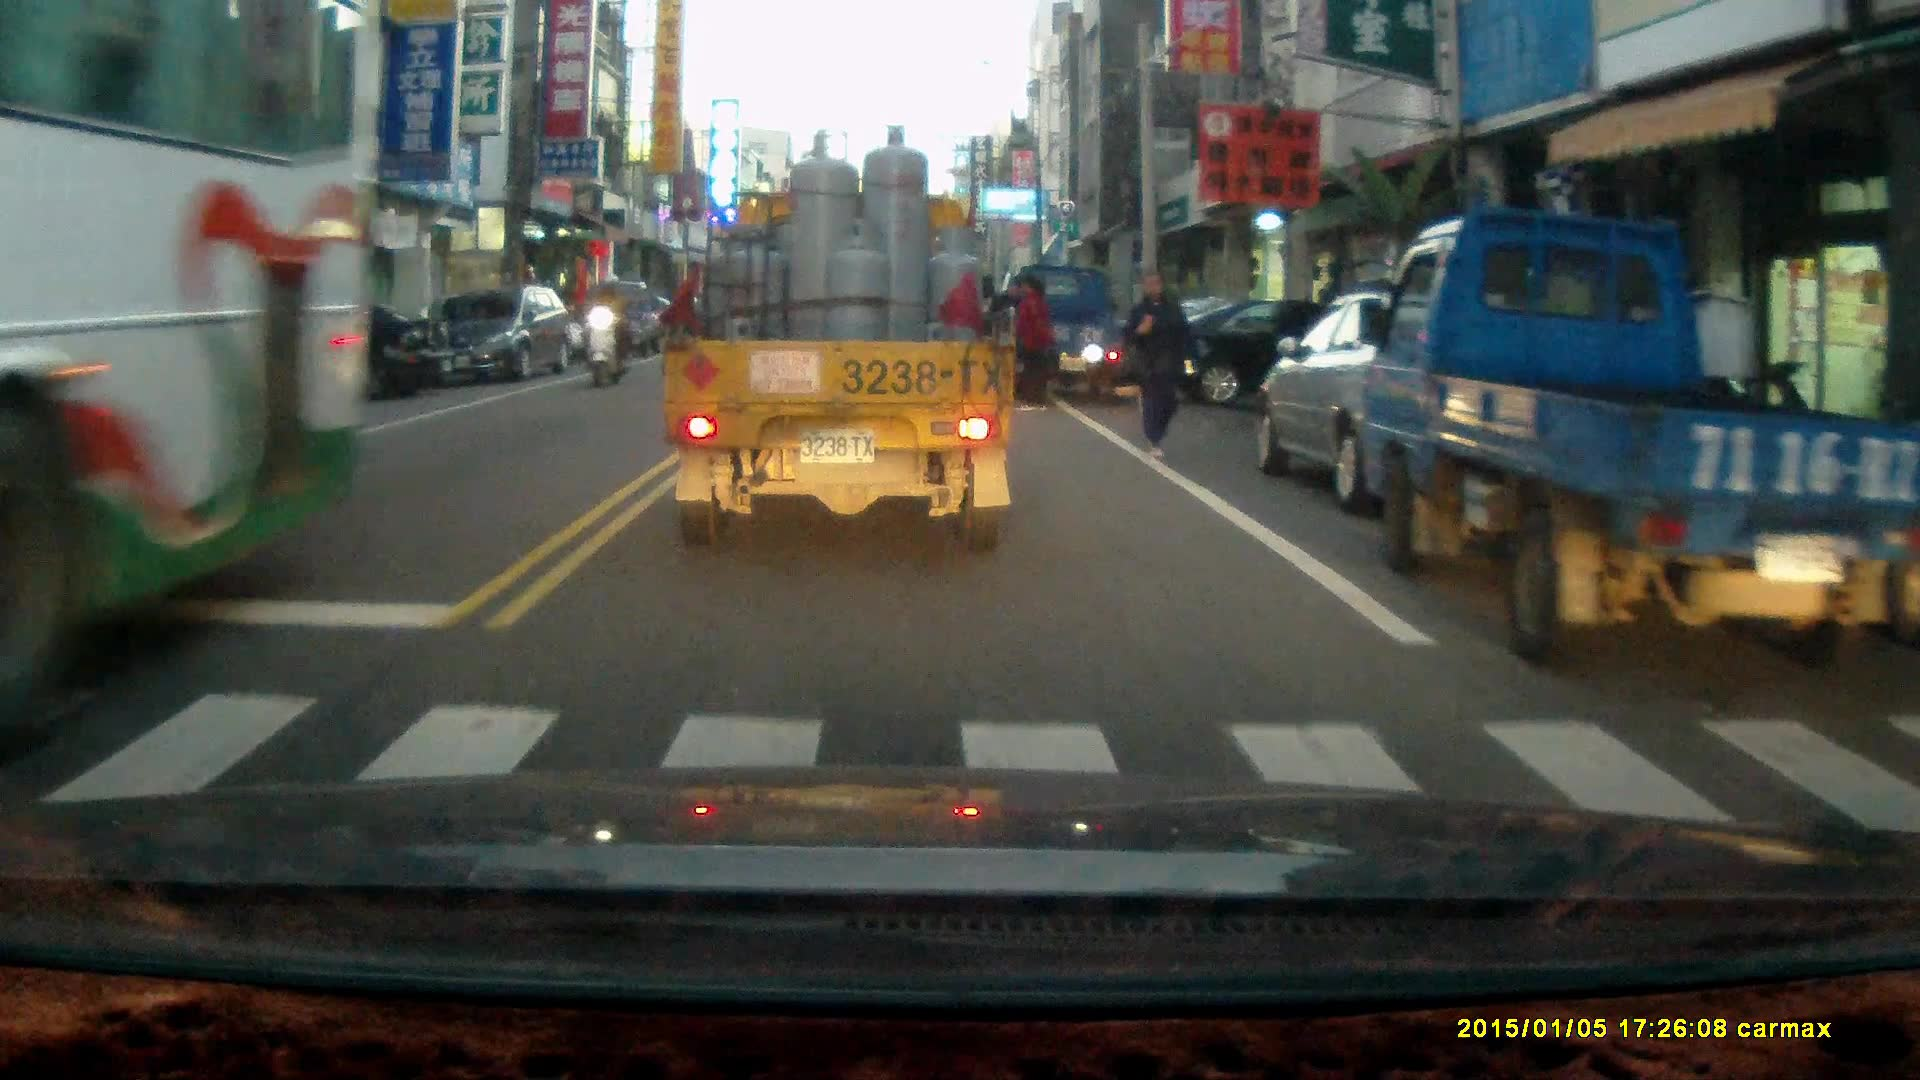pedestrian: (1122, 270, 1210, 459), (1013, 273, 1050, 407)
rider: (580, 268, 631, 386)
vehicle: (1355, 204, 1903, 671), (1, 2, 362, 666), (663, 123, 1019, 555), (1247, 284, 1568, 519), (1154, 293, 1419, 416), (999, 261, 1140, 402), (436, 285, 576, 388), (578, 278, 673, 362)
